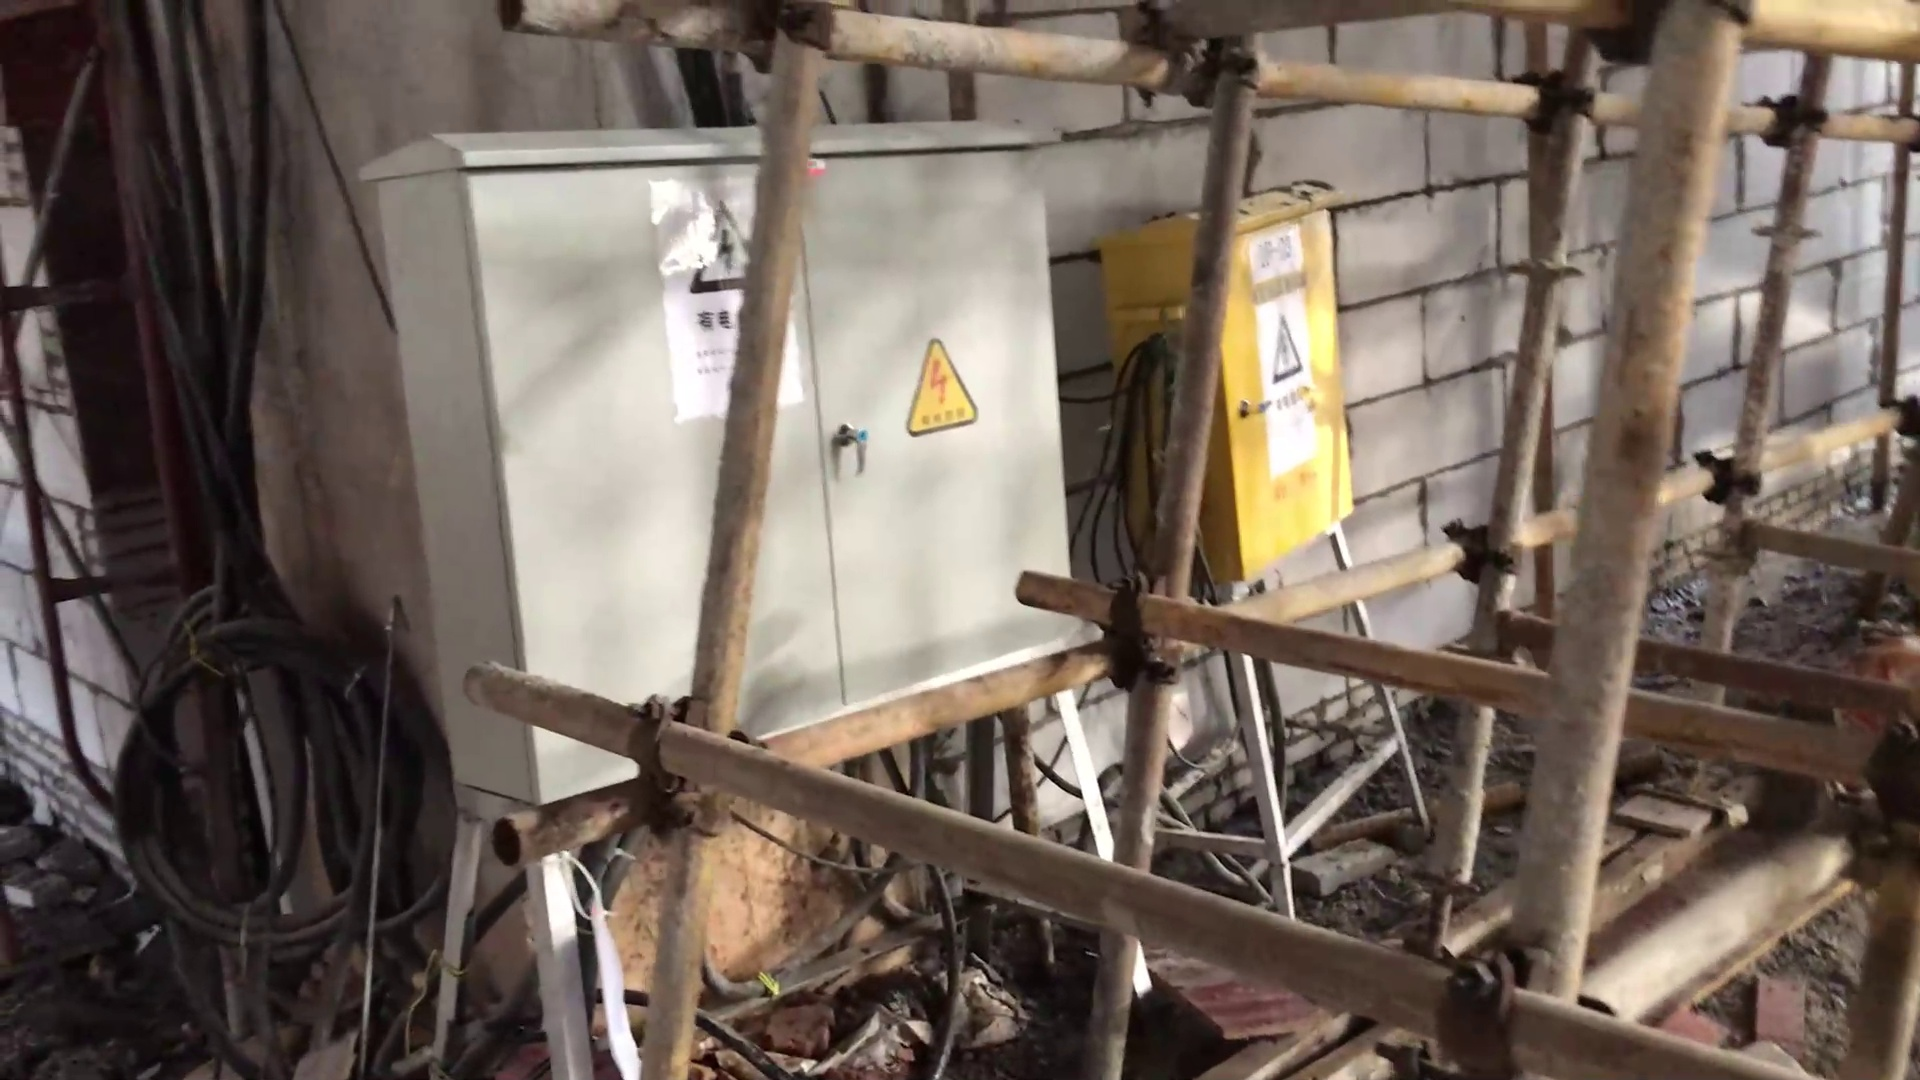ebox: (353, 112, 1085, 808), (1095, 179, 1360, 591)
